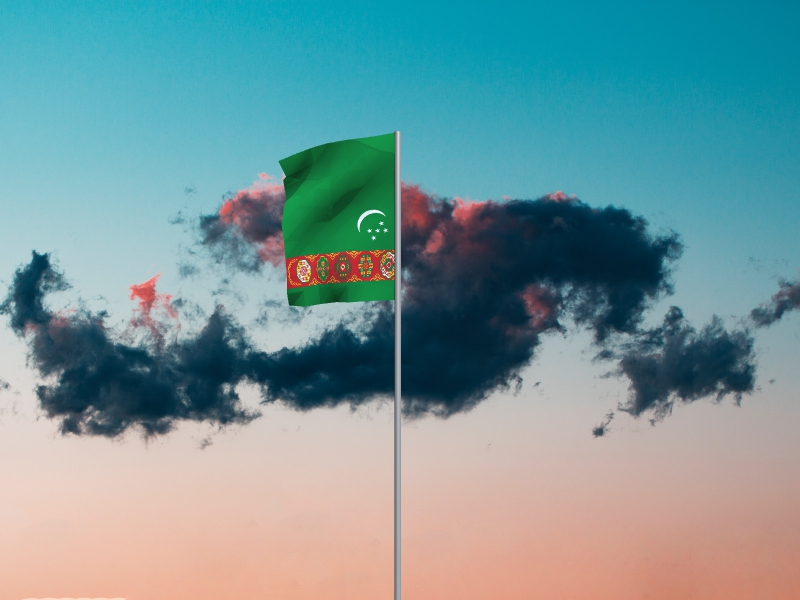tm: (278, 133, 395, 308)
